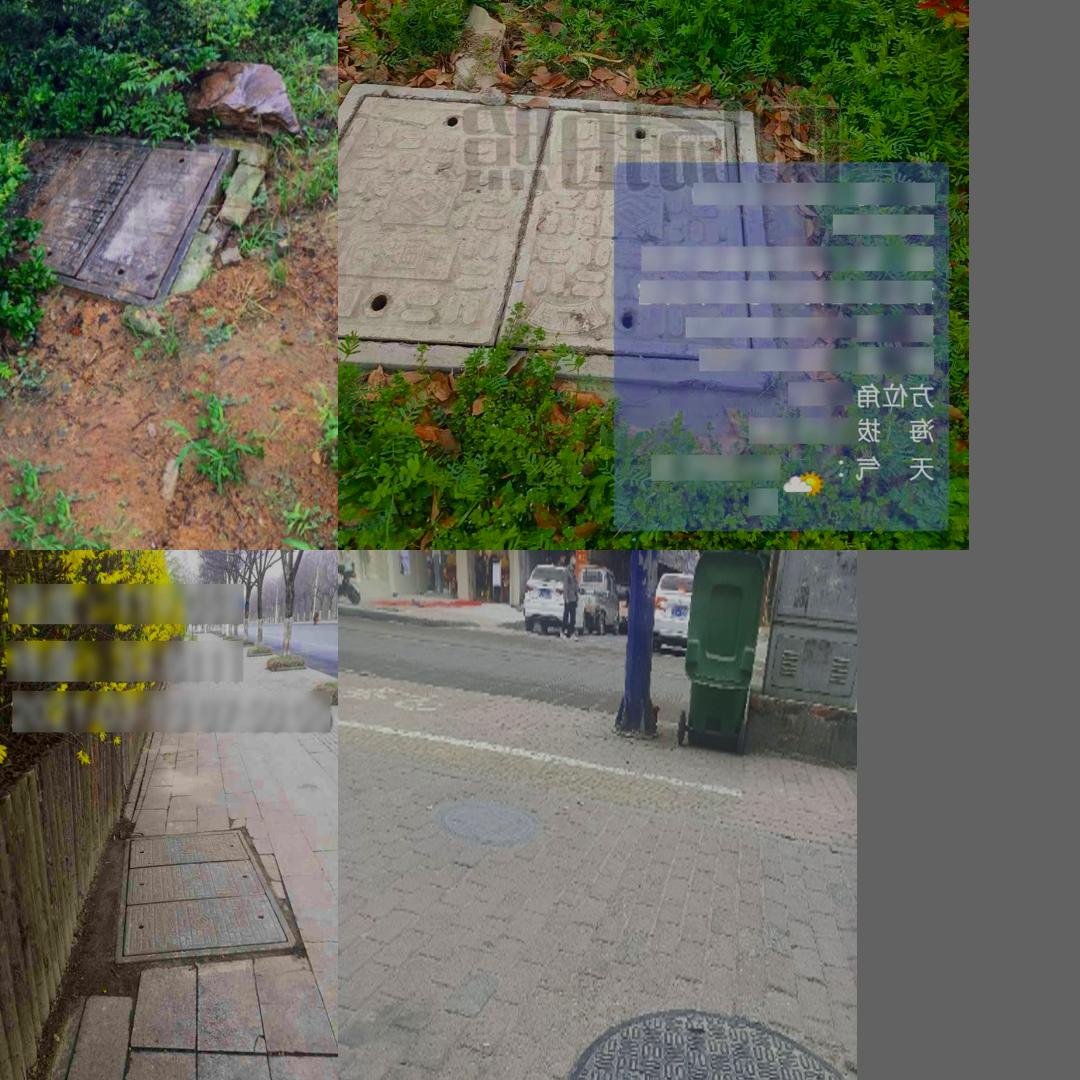good: (338, 82, 780, 390), (10, 127, 235, 305), (116, 828, 299, 962), (560, 1007, 857, 1080)
